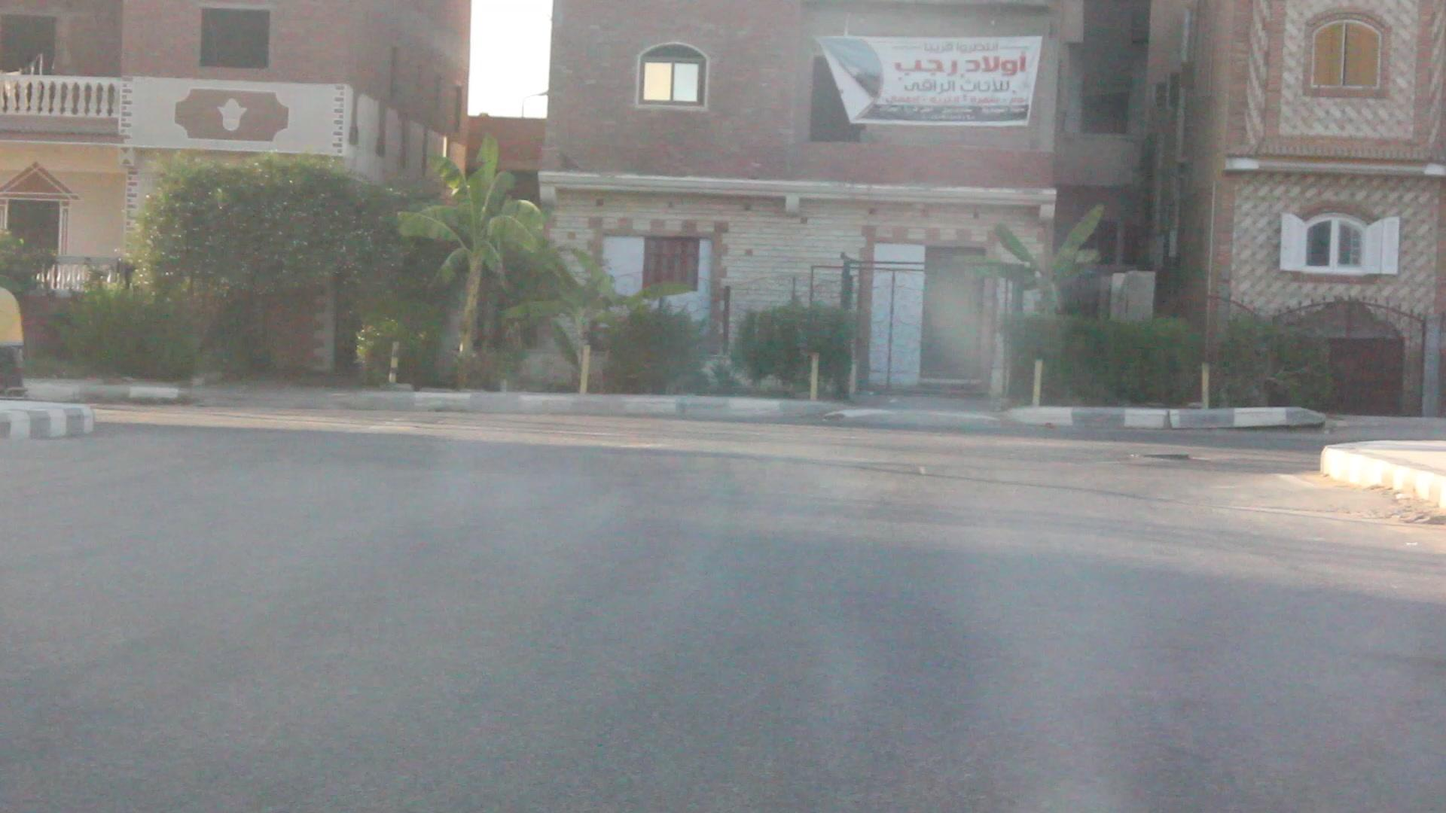Bump: (0, 434, 1429, 520)
